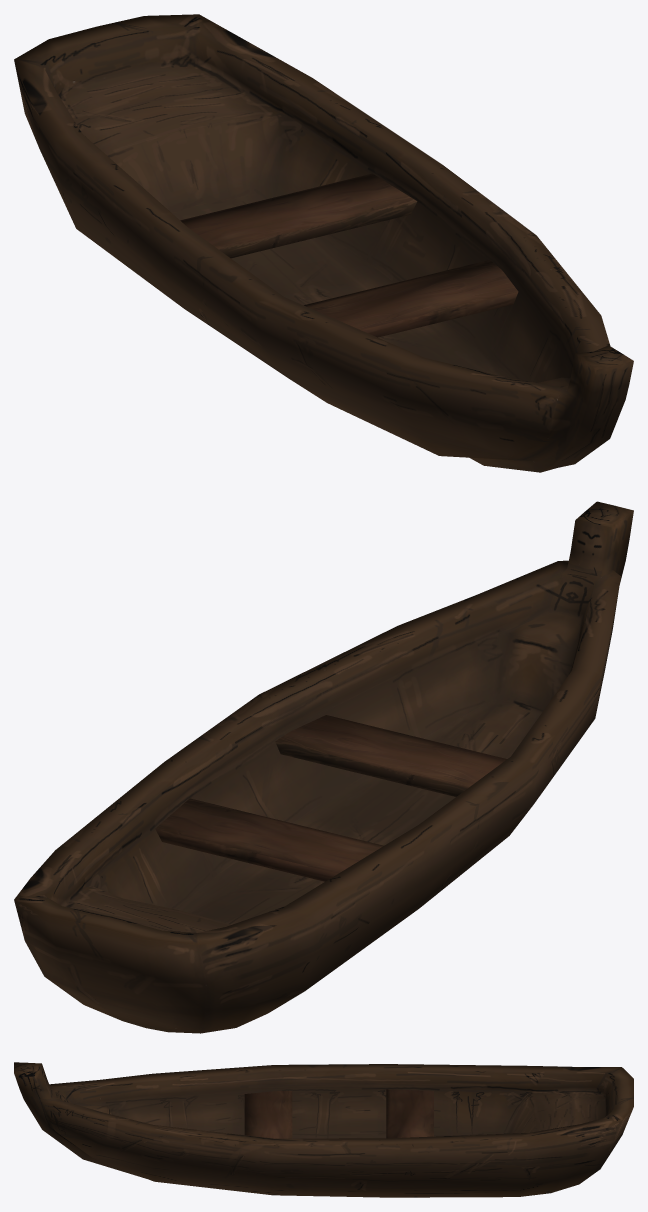
Rendered from boat.glb.
3 renders of one model, top to bottom at view 1: azimuth 30°, elevation 25°; view 2: azimuth 150°, elevation 25°; view 3: azimuth 270°, elevation 25°, orthographic. The views are drawn at different scales.
Visible parts, largest first — view 1: boat LP, plank 3, plank 2; view 2: boat LP, plank 2, plank 3; view 3: boat LP, plank 3, plank 2.
Part boxes in pixels (box(x1,y1,x2,y2)): boat LP: box(14, 14, 633, 472); plank 3: box(180, 173, 417, 258); plank 2: box(304, 260, 518, 337); boat LP: box(14, 501, 633, 1033); plank 2: box(275, 715, 506, 796); plank 3: box(155, 798, 383, 881); boat LP: box(14, 1062, 633, 1197); plank 3: box(386, 1089, 433, 1138); plank 2: box(244, 1091, 292, 1138).
Size of the model in its own units: 4.54 by 3.05 by 14.63.
2 materials, 2 textured.
